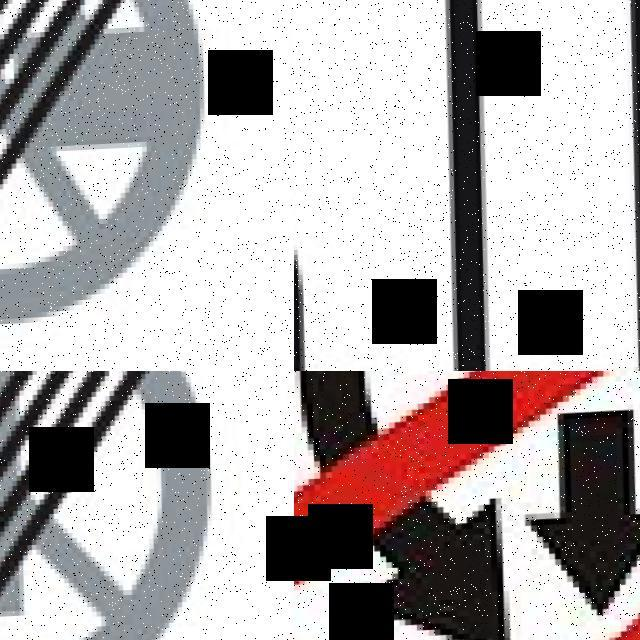111: (0, 0, 294, 371), (0, 371, 294, 640)
170: (294, 0, 640, 371)
No passing: (294, 371, 640, 640)
